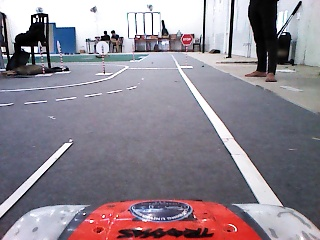stop: (180, 33, 194, 47)
